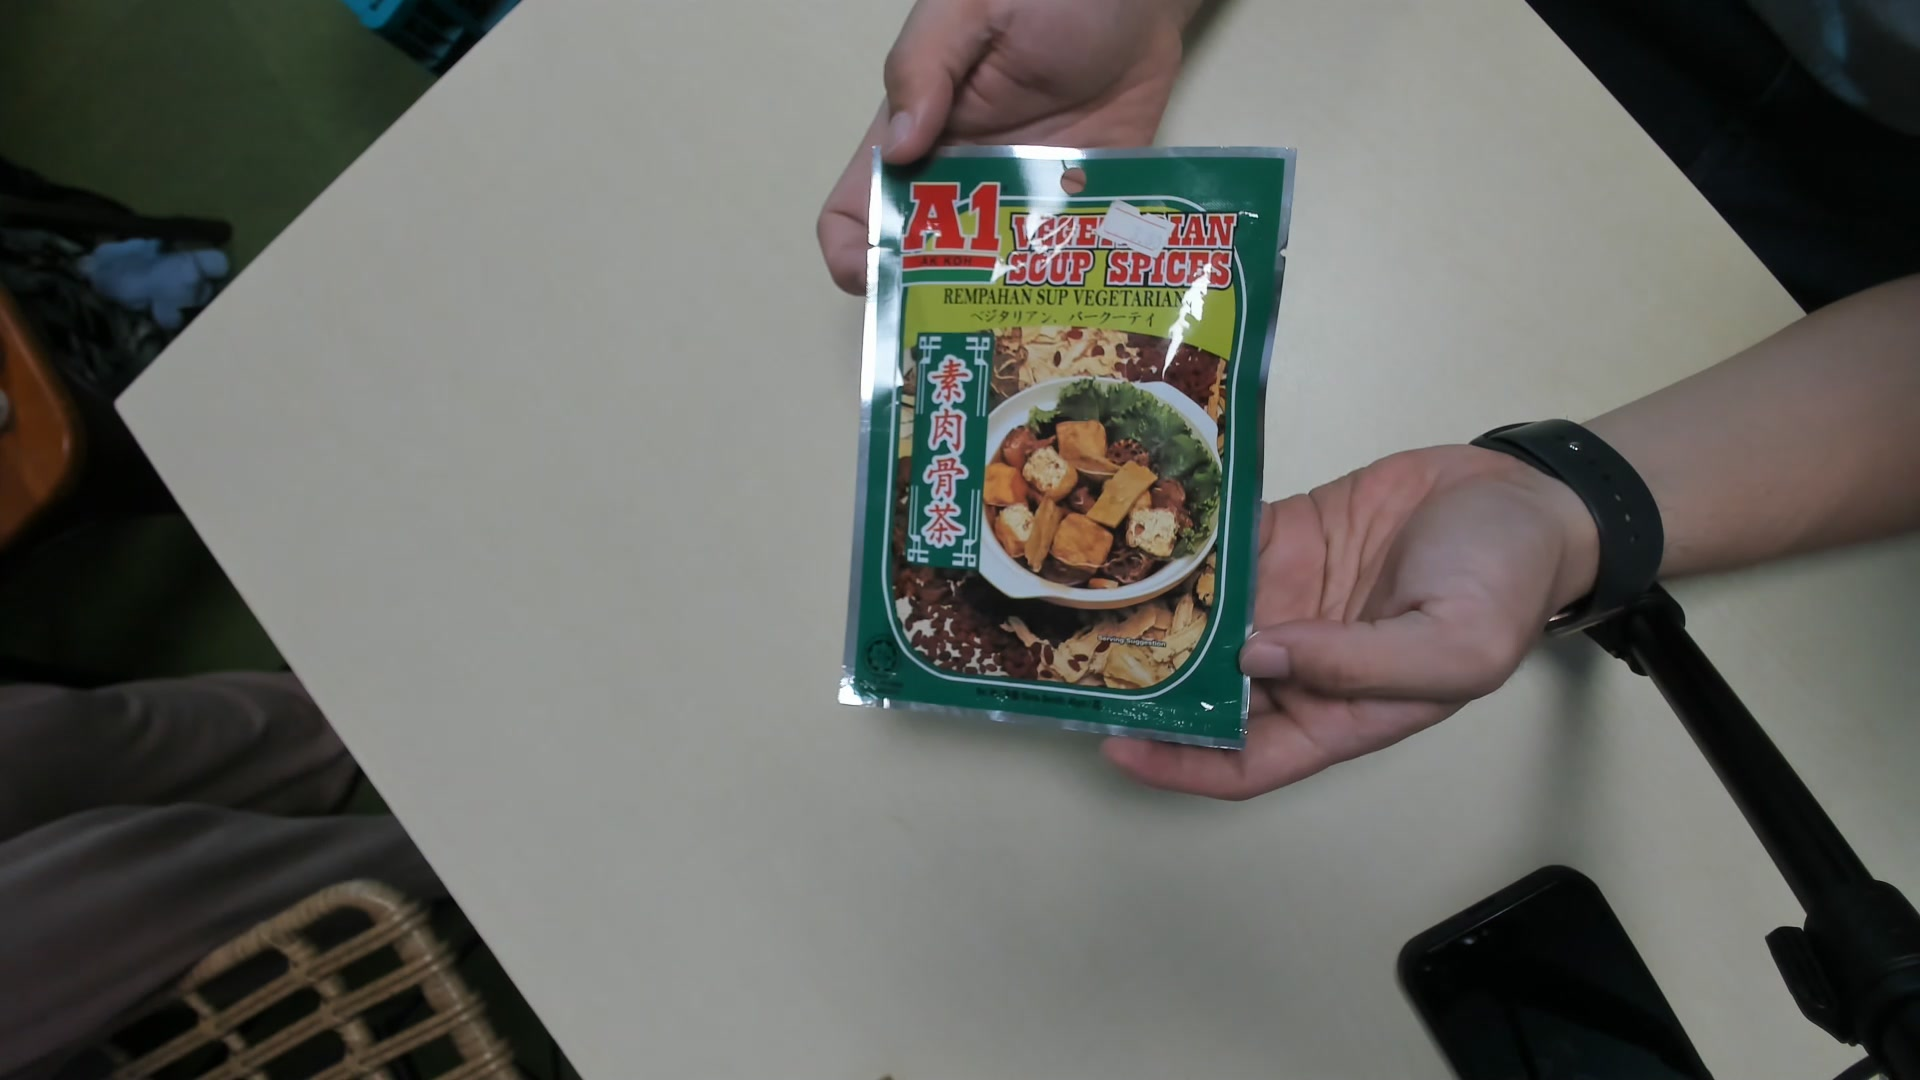OtherSauceDressing_0-99g_NonHalal_NonHealthy: (837, 144, 1298, 756)
